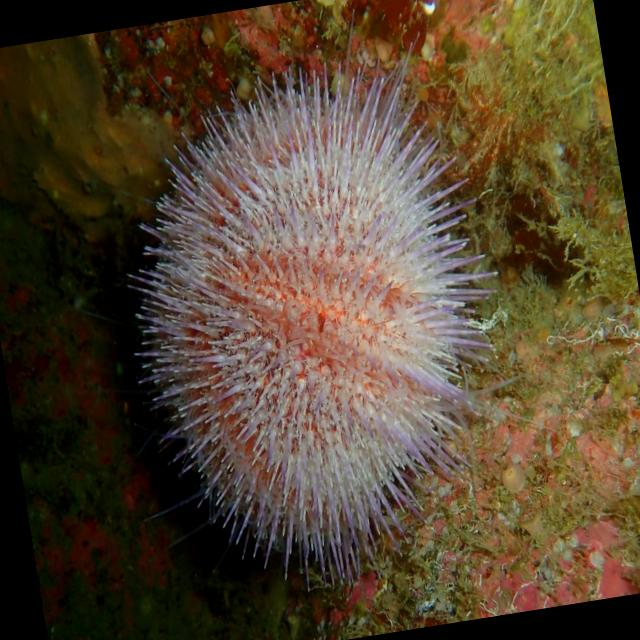Deniz Kestanesi: (68, 0, 543, 613)
